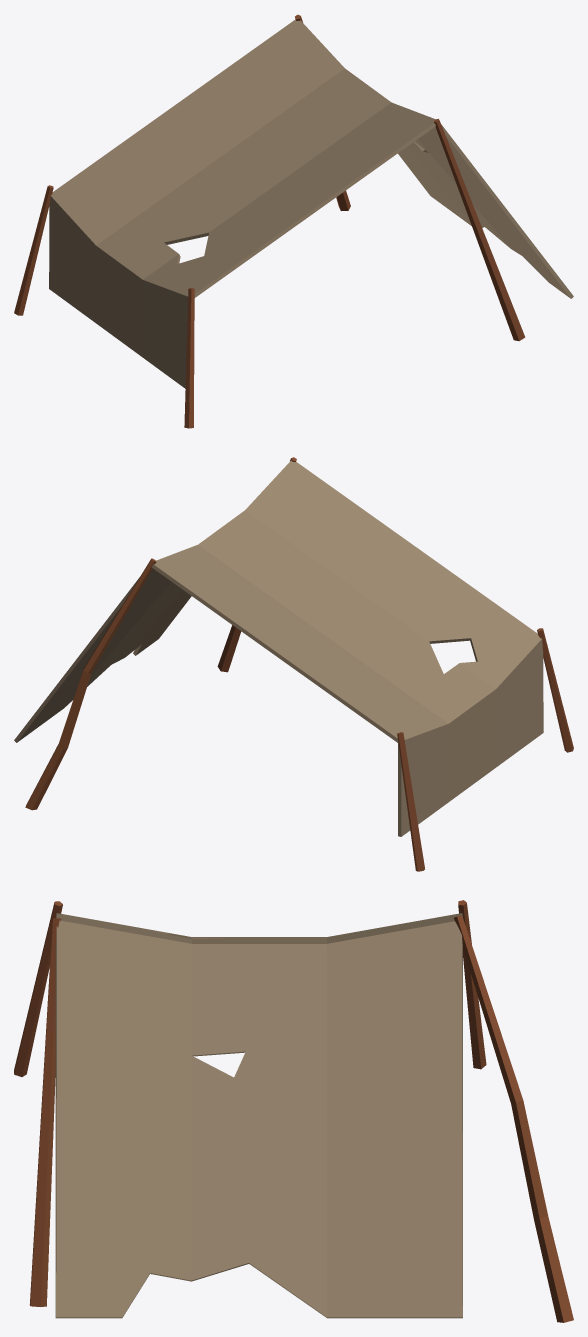
The model's file is LP_PostApoc_TatteredTentA.fbx.
3 views of the same model, one above another, from view 1: azimuth 30°, elevation 25°; view 2: azimuth 150°, elevation 25°; view 3: azimuth 270°, elevation 25° (orthographic). The views are drawn at different scales.
Parts seen in each view (by area): view 1: TatteredTentA; view 2: TatteredTentA; view 3: TatteredTentA.
Boxes of the visible parts, box(x1,y1,x2,y2) form: TatteredTentA: box(14, 14, 573, 428); TatteredTentA: box(14, 457, 573, 871); TatteredTentA: box(14, 900, 573, 1322).
Size of the model in its own units: 338 by 189 by 275.
